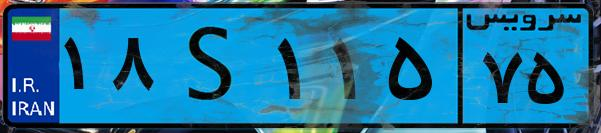1: (270, 28, 330, 110), (330, 28, 385, 110), (57, 26, 110, 100)
5: (385, 28, 445, 110), (525, 38, 570, 115)
7: (475, 38, 525, 113)
8: (110, 28, 158, 98)
S: (158, 12, 270, 120)
